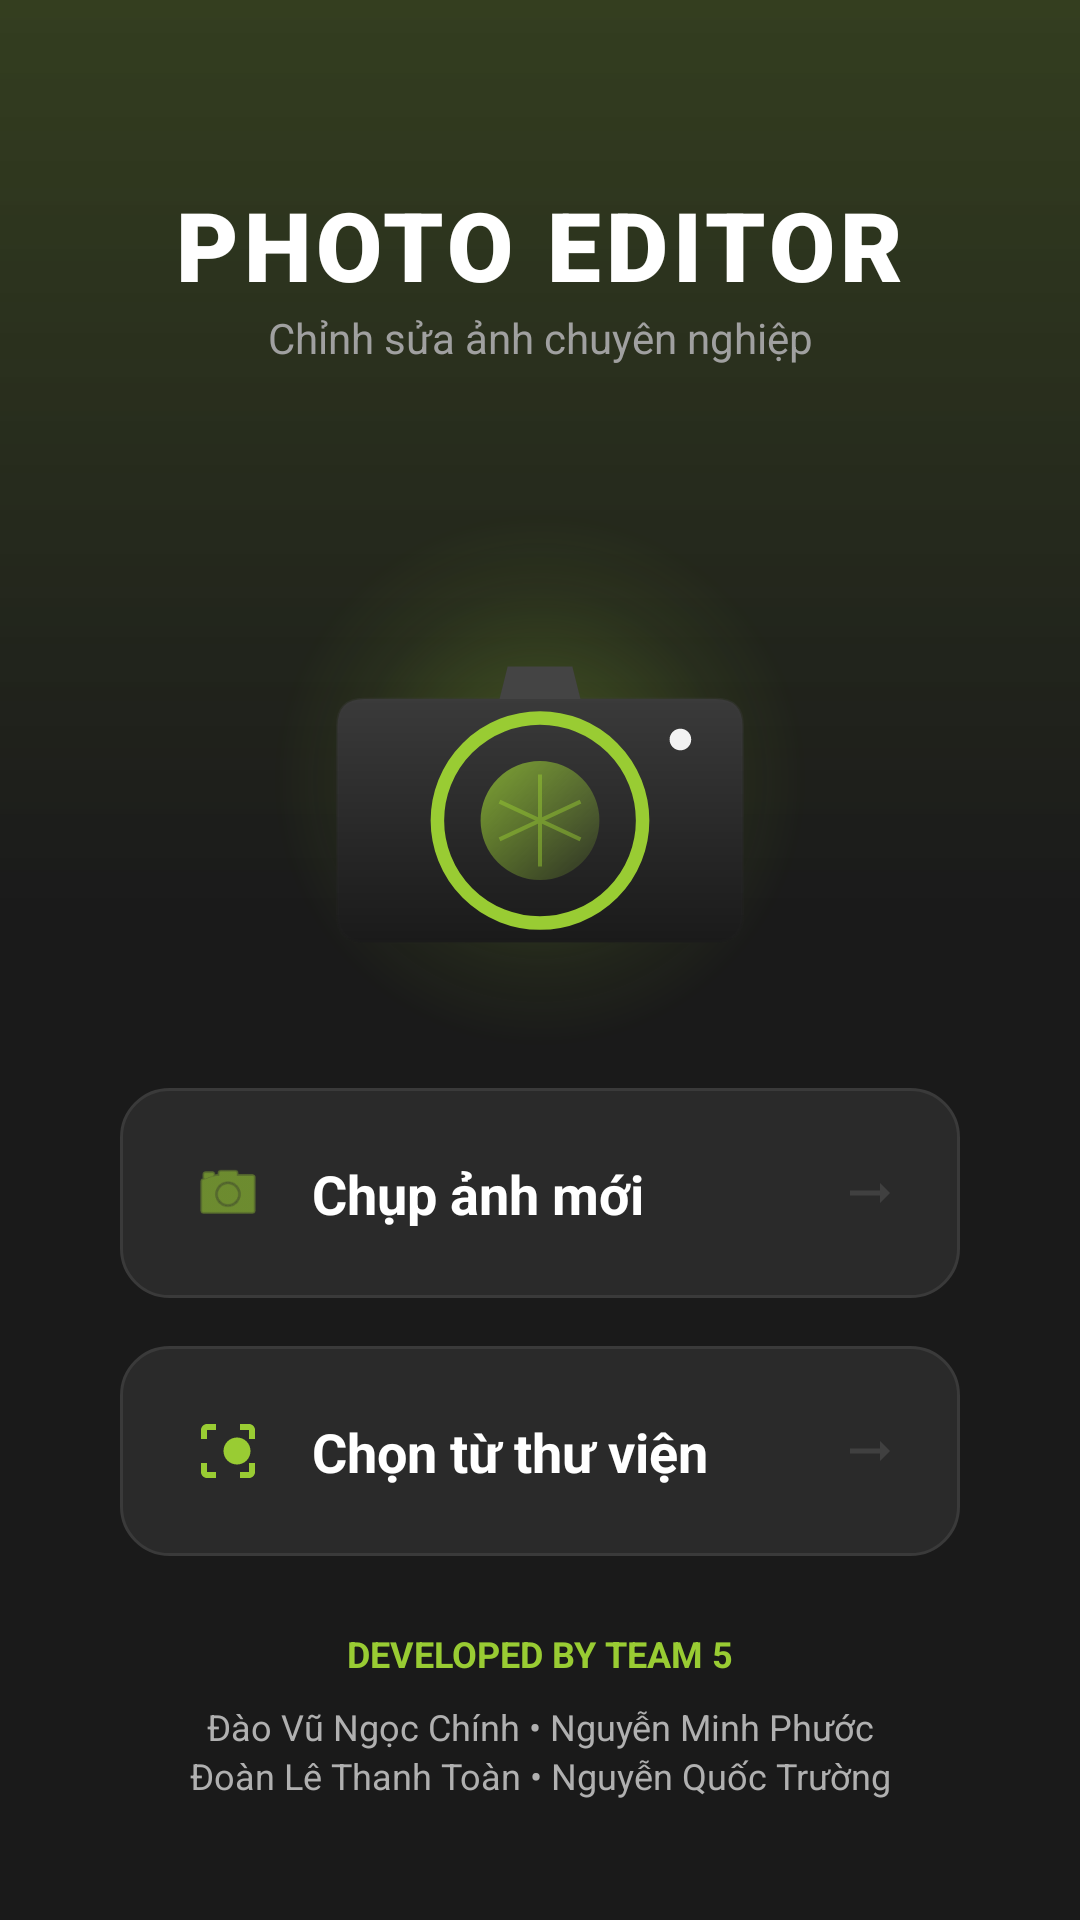

Icon bounding boxes for this 1080x1920 phone screenshot, format (x1, y1, x2, y2):
camera: (200, 1170, 256, 1214)
